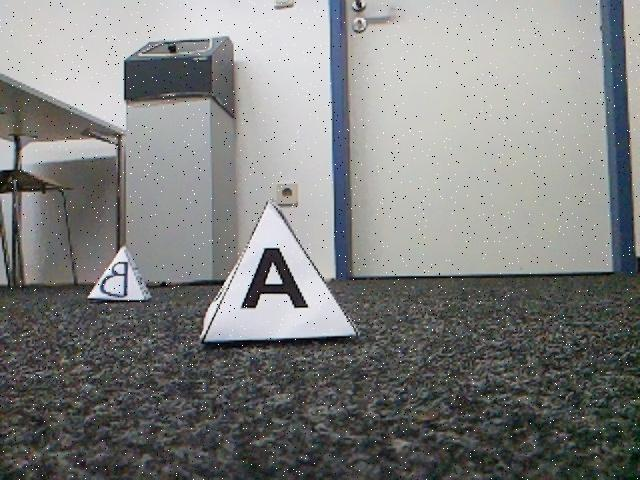A: (198, 197, 358, 344)
B: (87, 245, 152, 303)
